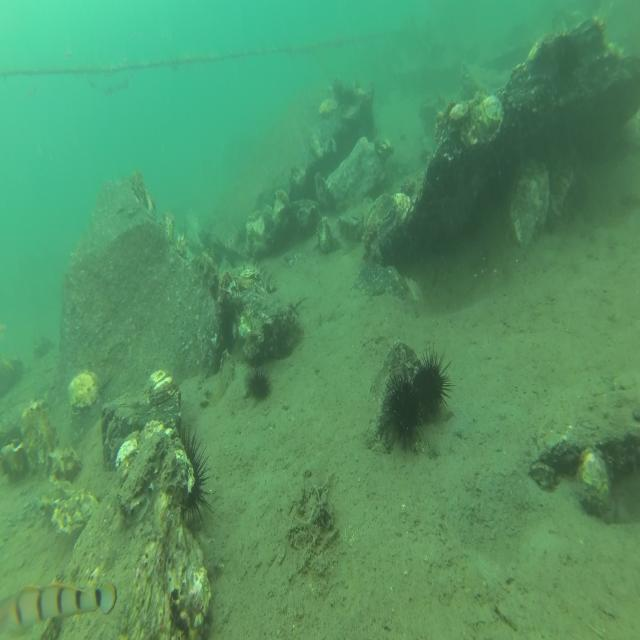echinus: (178, 420, 215, 527), (382, 366, 424, 455), (418, 340, 457, 416), (555, 31, 582, 79), (245, 364, 275, 402), (342, 86, 356, 107)
holothurian: (236, 257, 278, 294)
starfish: (429, 171, 481, 238)
